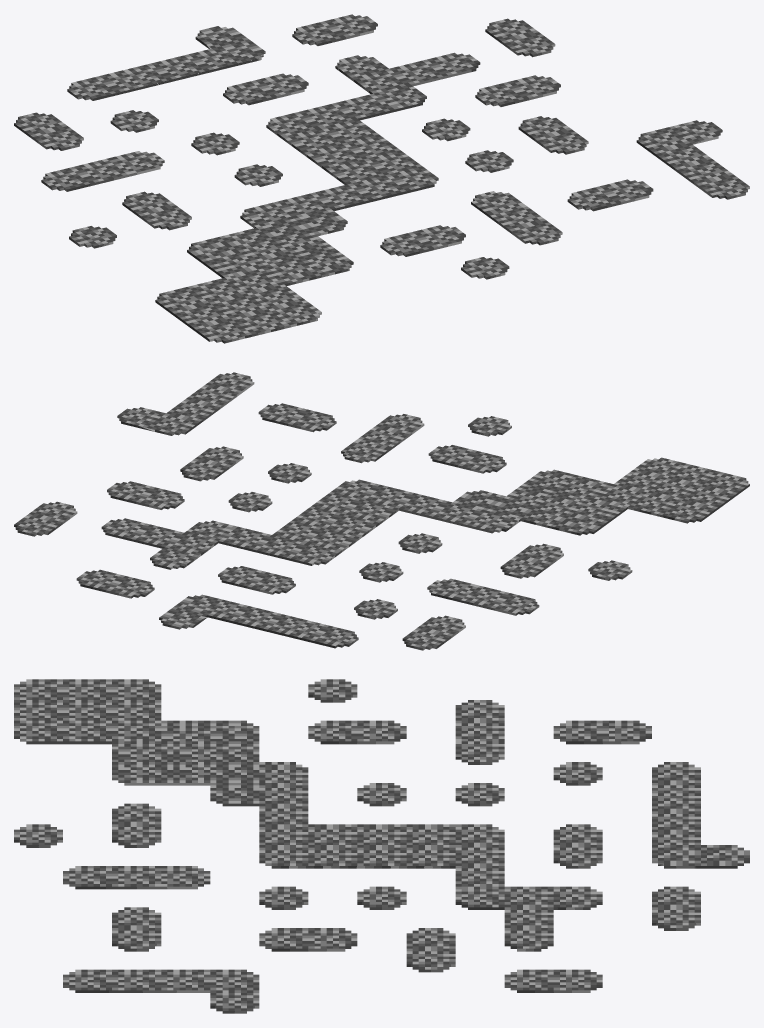
File: st_level_02_F.FBX
3 views of the same model, one above another, from view 1: azimuth 30°, elevation 25°; view 2: azimuth 150°, elevation 25°; view 3: azimuth 270°, elevation 25° (orthographic). The views are drawn at different scales.
Parts seen in each view (by area): view 1: Object003; view 2: Object003; view 3: Object003.
Boxes of the visible parts, x1,y1,x2,y2 form: Object003: (14, 14, 749, 343); Object003: (14, 372, 749, 650); Object003: (14, 679, 749, 1013).
Size of the model in its own units: 2560 by 10 by 2400.
